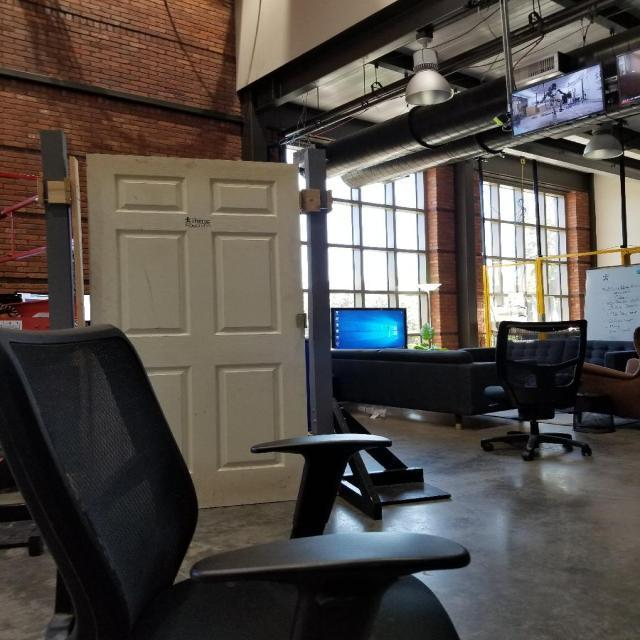door: (82, 150, 313, 518), (84, 344, 140, 368)
